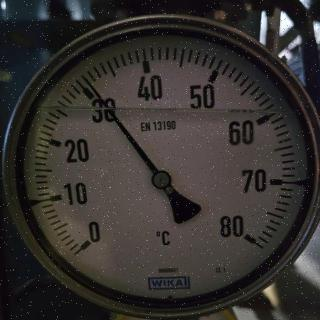gauge: (0, 0, 320, 320), (217, 212, 267, 258), (70, 226, 102, 258), (151, 168, 173, 190), (76, 73, 95, 89)
